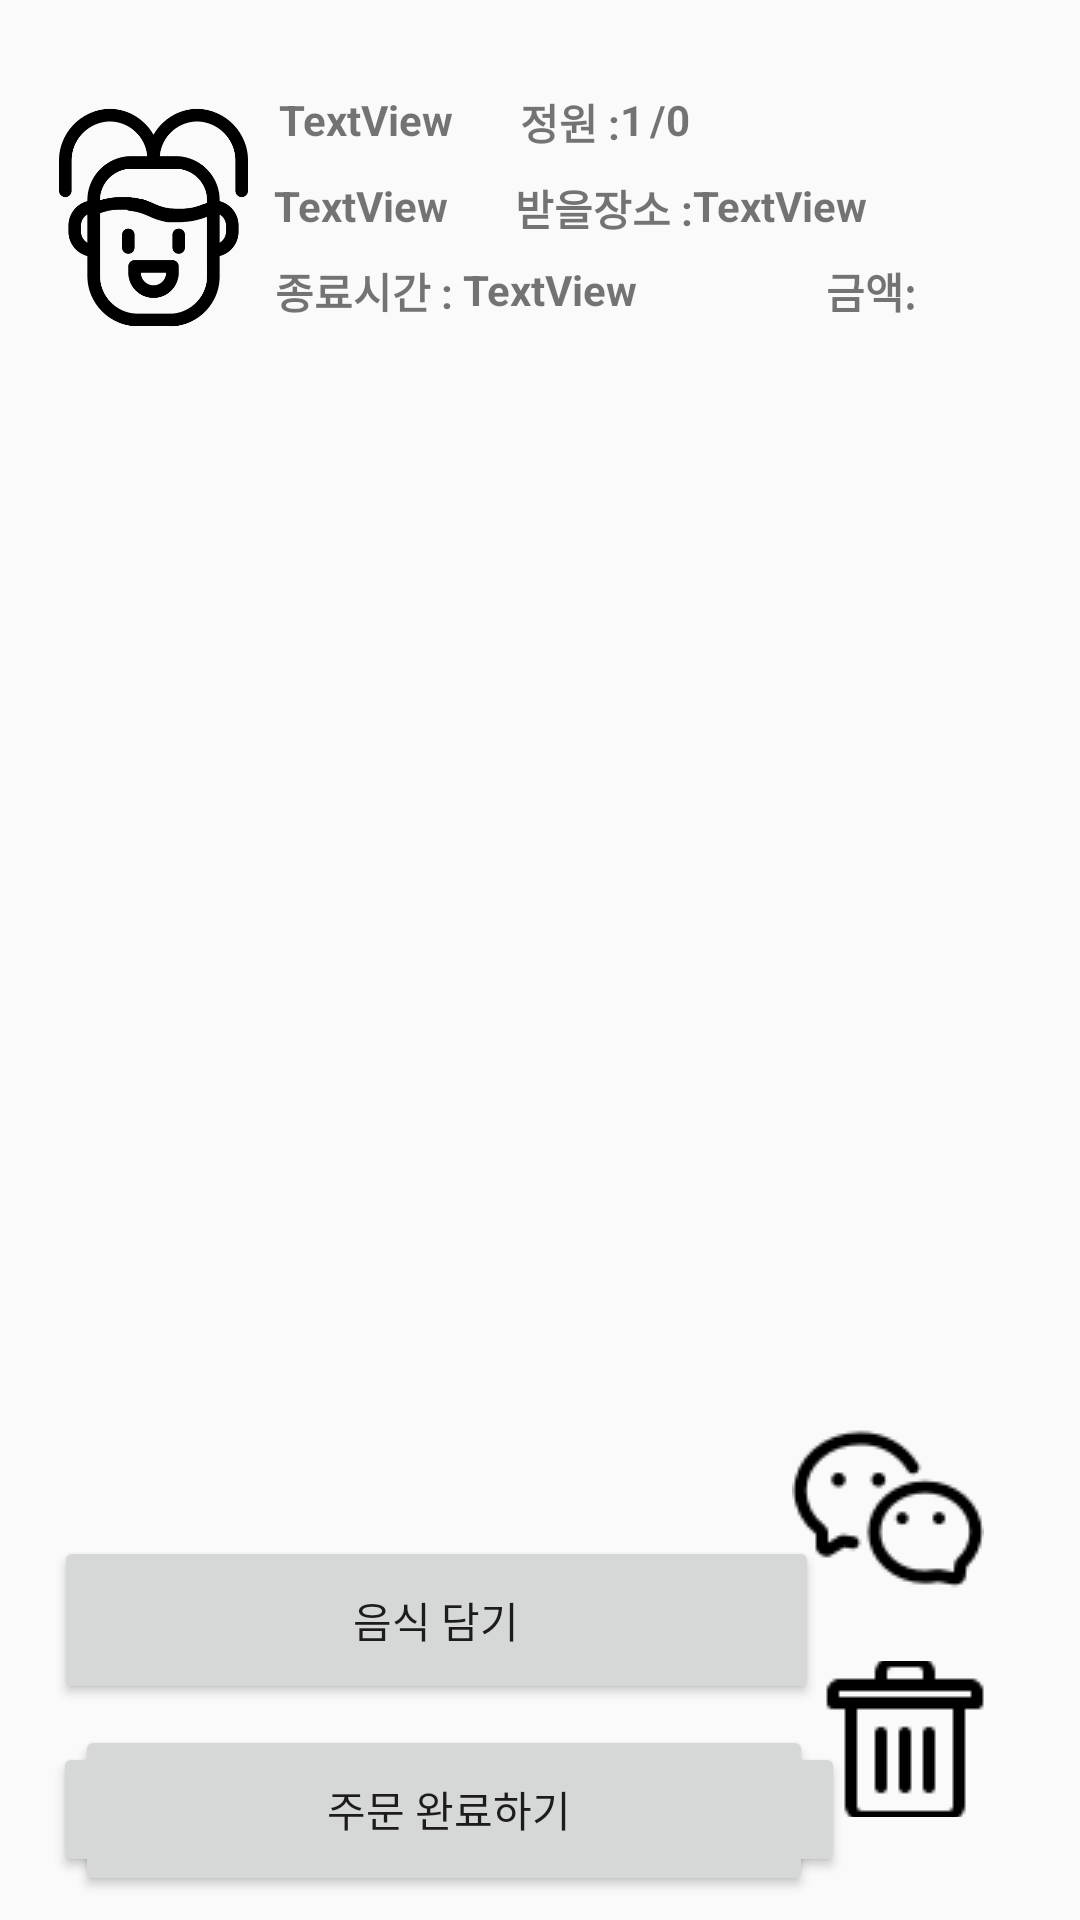

Where to tap for icons on this 1080 × 1920 app screen, as (x=x, y=y):
smapptalk: (x=888, y=1508)
trash can: (x=905, y=1739)
